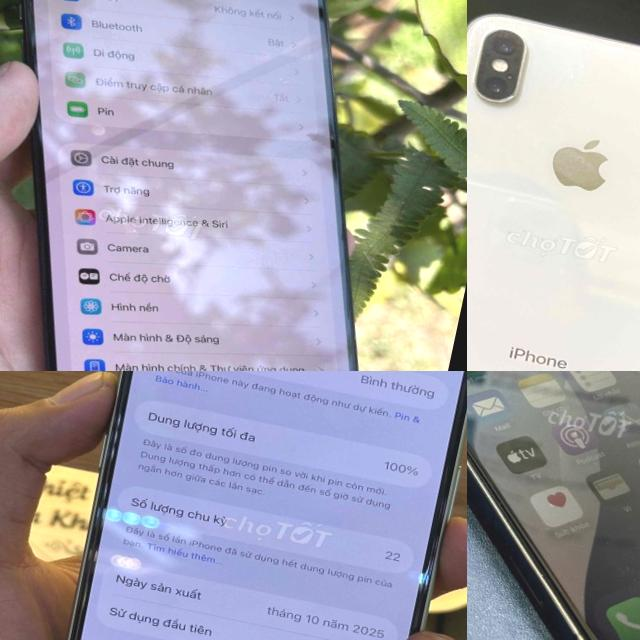gen_12_13: (467, 371, 640, 640)
gen_15: (0, 0, 456, 371)
gen_17: (23, 371, 467, 640)
gen_x_xs: (467, 15, 640, 371)
